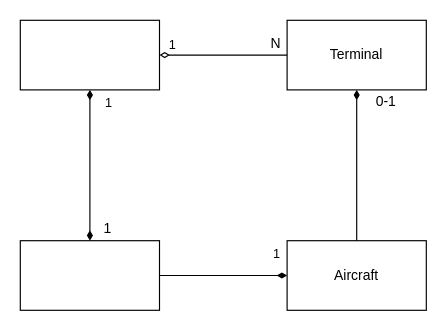
Some shapes in this 447 by 331 pixel diagram are drawn without their labels. Here are the shapes that lost their labels. From the top down, the centre of each, then its label:
At pixel 89 54: "Airport".
At pixel 89 275: "Tower".
